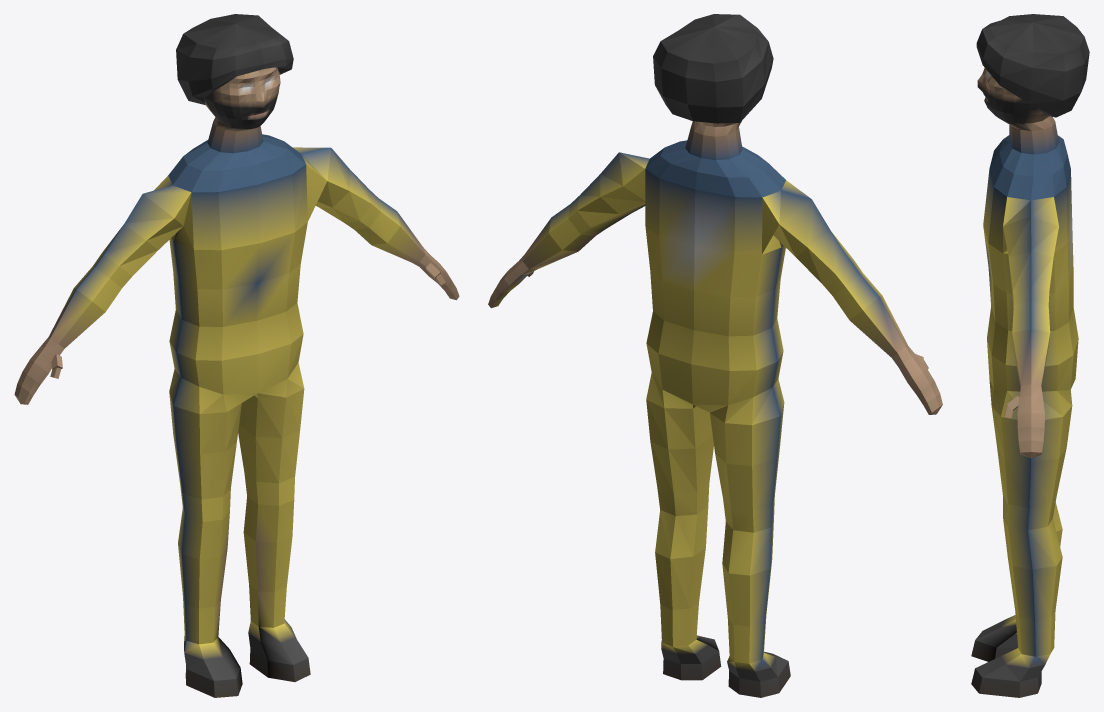
File: char__pessoa__piloto_h05.glb
3 renders of one model, left to right at view 1: azimuth 30°, elevation 25°; view 2: azimuth 150°, elevation 25°; view 3: azimuth 270°, elevation 25°, orthographic. The views are drawn at different scales.
Parts seen in each view (by area): view 1: char__pessoa__piloto_h05; view 2: char__pessoa__piloto_h05; view 3: char__pessoa__piloto_h05.
Part boxes in pixels (left/top/right/bottom): char__pessoa__piloto_h05: left=14, top=14, right=459, bottom=697; char__pessoa__piloto_h05: left=488, top=14, right=942, bottom=697; char__pessoa__piloto_h05: left=971, top=14, right=1089, bottom=697.
Bounding box in the file's own units: 1.22 × 1.72 × 0.2833.
